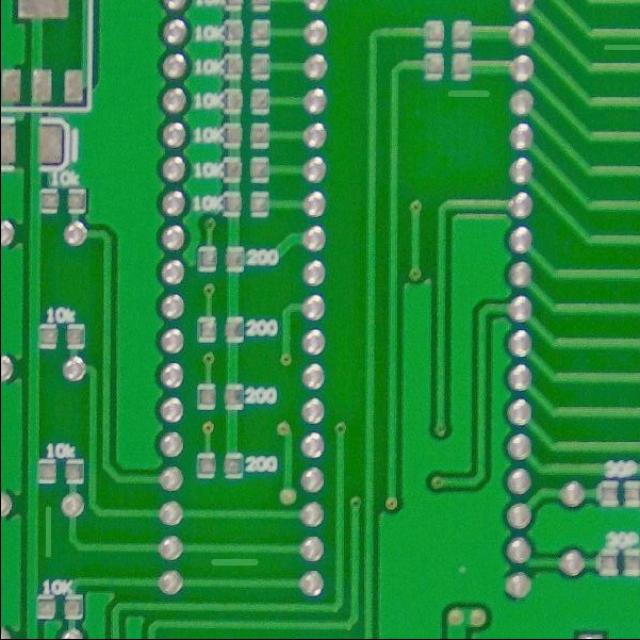spurious_copper: (34, 502, 57, 564), (201, 554, 266, 575), (441, 86, 493, 104), (594, 38, 638, 58)
